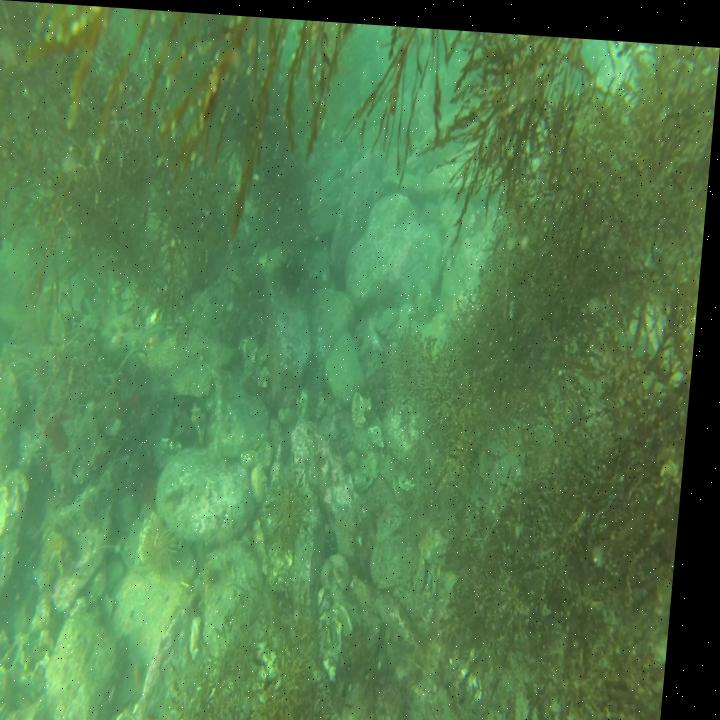echinus: (145, 508, 194, 577)
